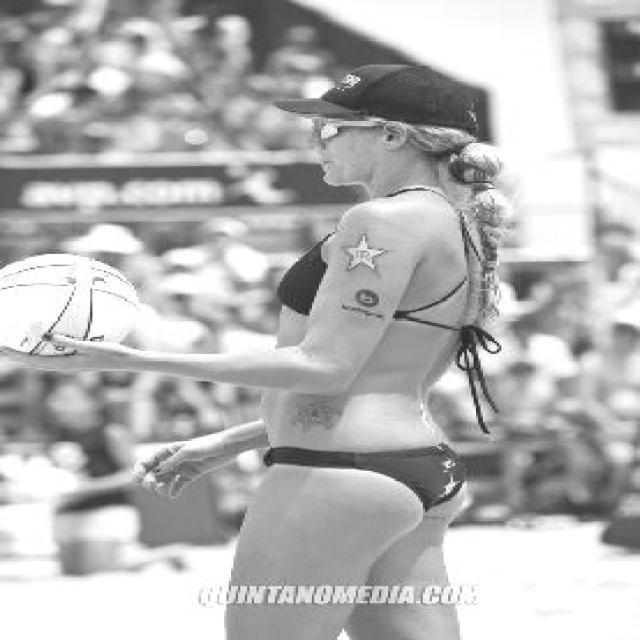volleyball: (0, 251, 138, 354)
